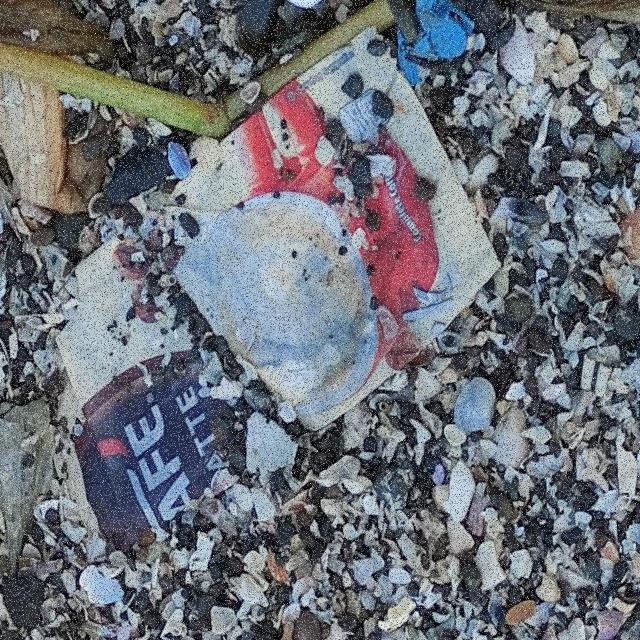plastic_waste: (57, 31, 503, 570)
